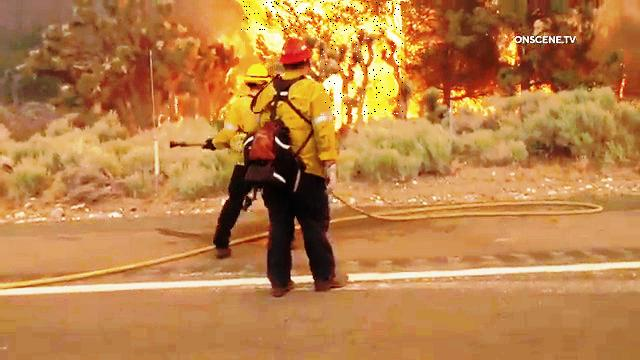fire: (321, 6, 404, 116), (242, 2, 405, 33)
